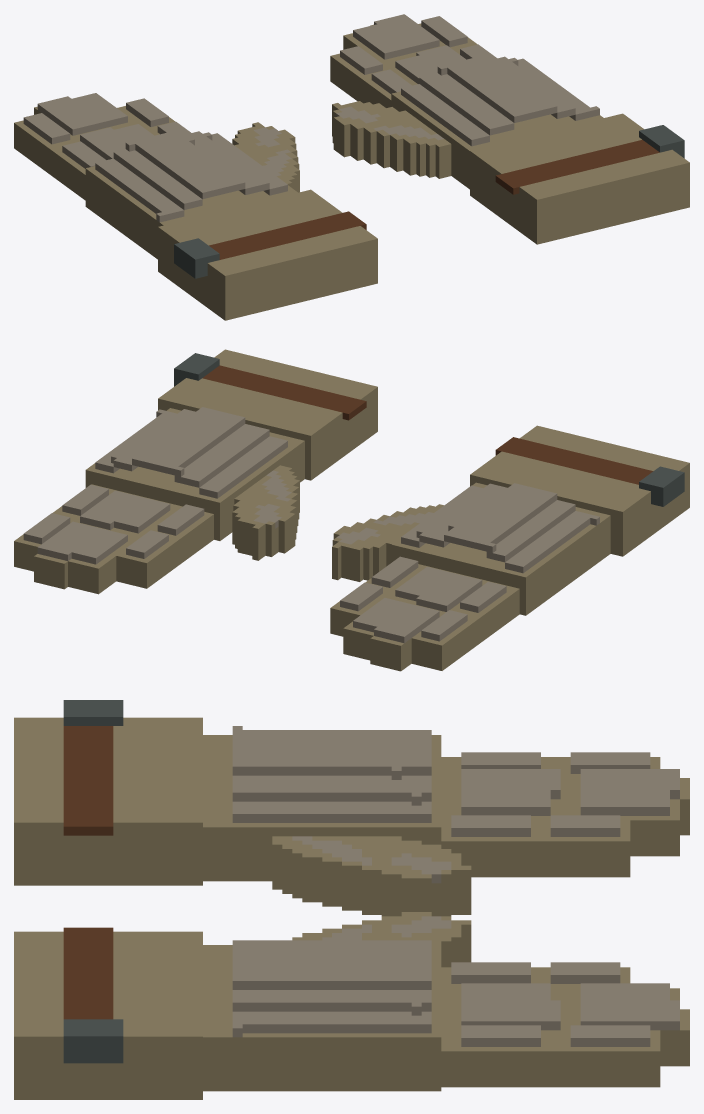
The model's file is qt_brigandine_hands.glb.
3 views of the same model, one above another, from view 1: azimuth 30°, elevation 25°; view 2: azimuth 150°, elevation 25°; view 3: azimuth 270°, elevation 25° (orthographic). The views are drawn at different scales.
Parts seen in each view (by area): view 1: qt_brigandine_hands:compound; view 2: qt_brigandine_hands:compound; view 3: qt_brigandine_hands:compound.
Boxes of the visible parts, x1,y1,x2,y2 form: qt_brigandine_hands:compound: [14, 14, 689, 320]; qt_brigandine_hands:compound: [14, 349, 689, 671]; qt_brigandine_hands:compound: [14, 700, 689, 1099].
Size of the model in its own units: 0.32 by 0.036 by 0.272.
